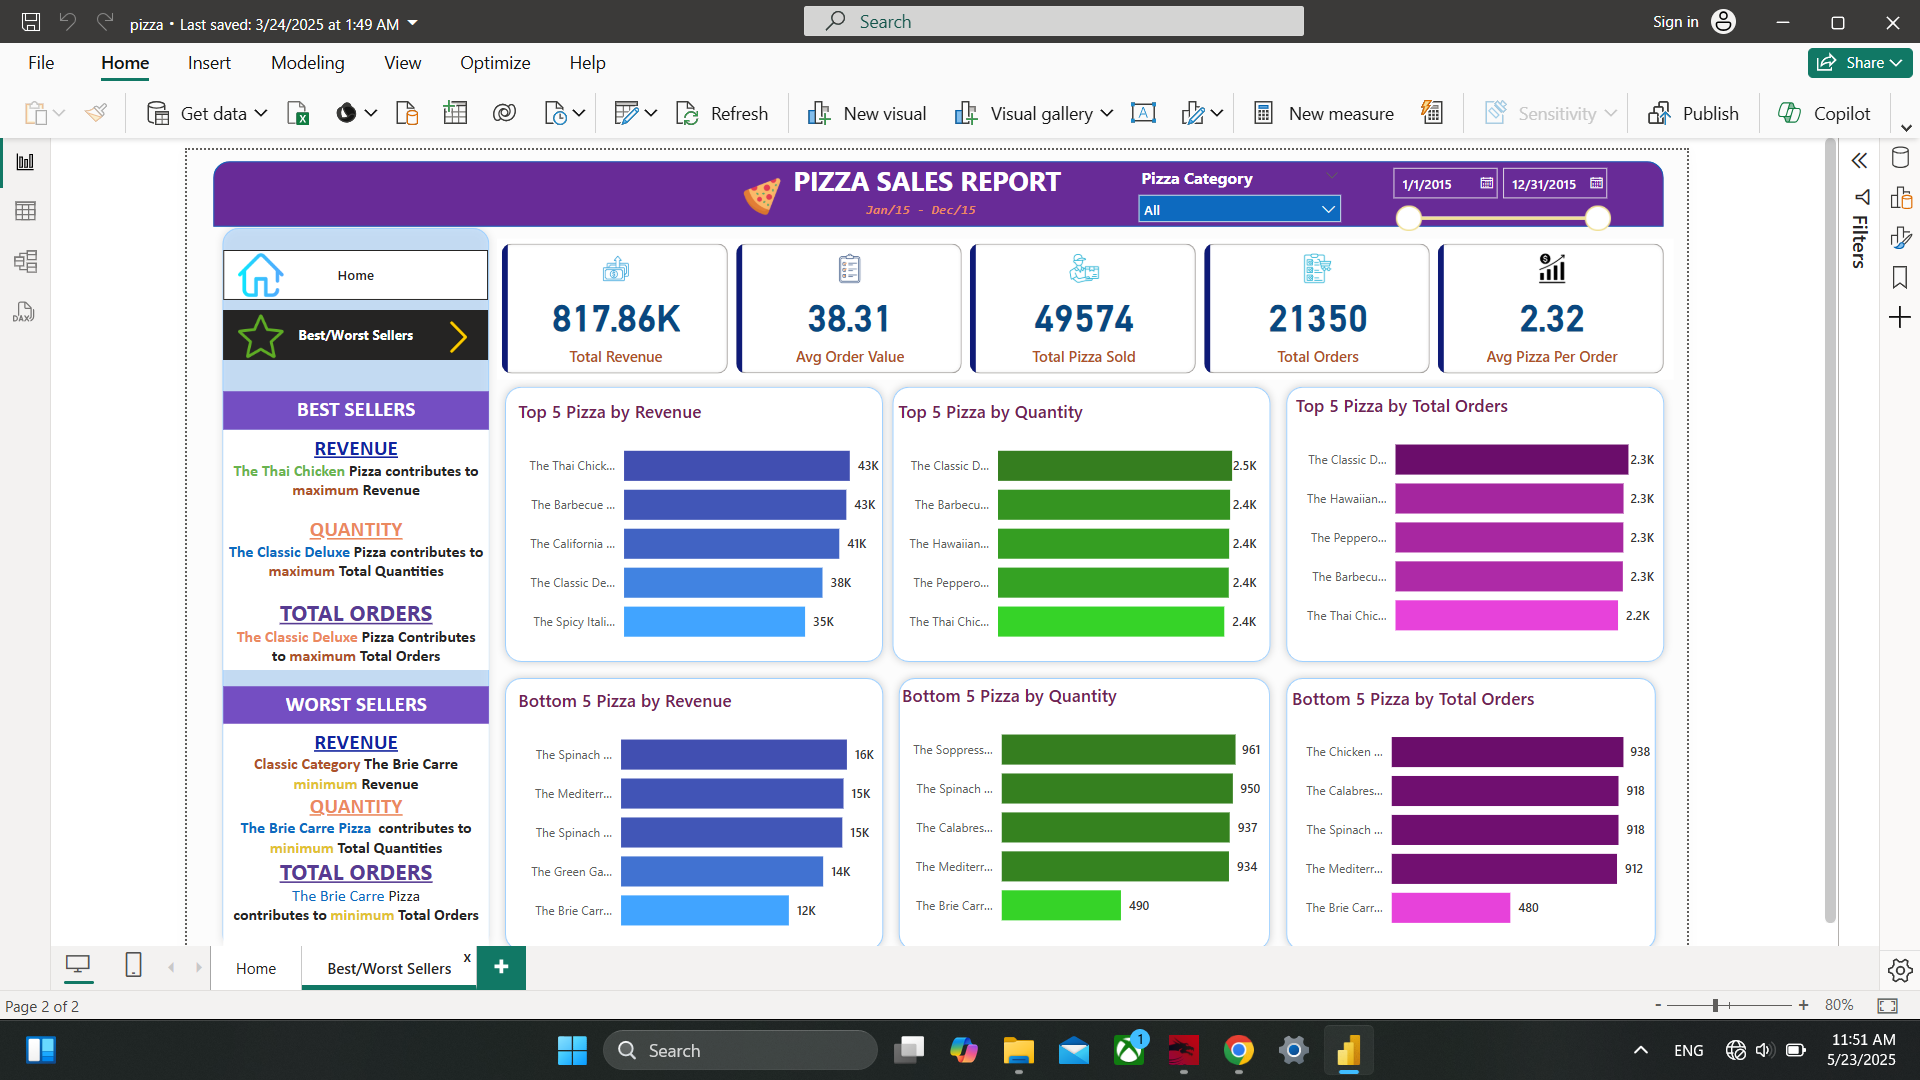

The page's visual inventory and layout, read from the dashboard file:
{"tool":"powerbi","page":{"name":"Best/Worst Sellers","canvas":[1500,820],"ordinal":1},"visuals":[{"type":"shape","box":[27.1,70,282.9,738.6],"z":0},{"type":"cardVisual","fields":{"Data":["pizza_sales.Total Revenue","pizza_sales.Avg Order Value","pizza_sales.Total Pizza Sold","pizza_sales.Total Orders","pizza_sales.Avg Pizza Per Order"]},"box":[309.4,89.1,1176.6,140.6],"z":1000},{"type":"shape","box":[26.6,10.9,1450,65.6],"z":2000},{"type":"textbox","box":[601.6,7,301.6,56.2],"z":3000},{"type":"textbox","box":[673.4,45.3,156.2,32.8],"z":4000},{"type":"image","box":[548.4,21.9,53.1,48.4],"z":5000},{"type":"shape","box":[310,520,394.3,288.6],"z":6000},{"type":"shape","box":[704.3,520,387.1,288.6],"z":7000},{"type":"shape","box":[1091.4,520,385.7,288.6],"z":8000},{"type":"textbox","box":[35.7,241,265.7,38.6],"z":9000},{"type":"textbox","box":[35.7,280,265.7,240],"z":10000},{"type":"textbox","box":[35.7,536,265.7,38.6],"z":11000},{"type":"textbox","box":[35.7,574.3,265.7,222.9],"z":12000},{"type":"slicer","fields":{"Values":["pizza_sales.pizza_category"]},"box":[941.4,11.4,222.9,65.7],"z":13000},{"type":"slicer","fields":{"Values":["pizza_sales.order_date"]},"box":[1194.3,7.1,238.6,81.4],"z":14000},{"type":"shape","box":[310,228.6,394.3,291.4],"z":15000},{"type":"shape","box":[697.1,228.6,394.3,291.4],"z":16000},{"type":"shape","box":[1091.4,228.6,394.3,291.4],"z":17000},{"type":"barChart","title":"Top 5 Pizza by Revenue","fields":{"Category":["pizza_sales.pizza_name"],"Y":["pizza_sales.Total Revenue"]},"box":[325.7,250,392.9,258.6],"z":18000},{"type":"barChart","title":"Bottom 5 Pizza by Revenue","fields":{"Category":["pizza_sales.pizza_name"],"Y":["pizza_sales.Total Revenue"]},"box":[325.7,538.6,378.6,258.6],"z":19000},{"type":"barChart","title":"Top 5 Pizza by Quantity","fields":{"Category":["pizza_sales.pizza_name"],"Y":["pizza_sales.Total Pizza Sold"]},"box":[705.7,250,368.6,258.6],"z":20000},{"type":"barChart","title":"Bottom 5 Pizza by Quantity","fields":{"Category":["pizza_sales.pizza_name"],"Y":["pizza_sales.Total Pizza Sold"]},"box":[710,534.3,368.6,258.6],"z":21000},{"type":"barChart","title":"Top 5 Pizza by Total Orders","fields":{"Category":["pizza_sales.pizza_name"],"Y":["pizza_sales.Total Orders"]},"box":[1104.3,244.3,368.6,258.6],"z":22000},{"type":"barChart","title":"Bottom 5 Pizza by Total Orders","fields":{"Category":["pizza_sales.pizza_name"],"Y":["pizza_sales.Total Orders"]},"box":[1100,535.7,368.6,258.6],"z":23000},{"type":"pageNavigator","box":[35.7,160,265.7,50],"z":23001},{"type":"pageNavigator","box":[35.7,100,265.7,50],"z":23002},{"type":"image","box":[241.4,165.7,60,41.4],"z":23003},{"type":"image","box":[45.7,155.7,55.7,60],"z":23004},{"type":"image","box":[45.7,97.1,55.7,55.7],"z":23005}]}

Visuals, with their boxes on the page's 1500x820 design canvas (x1, y1, x2, y2). These are canvas units, not pixel positions in the 1920x1080 screenshot, which may show the page scaled, cropped or inside an application window:
shape: [x1=27, y1=70, x2=310, y2=809]
cardVisual - pizza_sales.Total Revenue x pizza_sales.Avg Order Value: [x1=309, y1=89, x2=1486, y2=230]
shape: [x1=27, y1=11, x2=1477, y2=76]
textbox: [x1=602, y1=7, x2=903, y2=63]
textbox: [x1=673, y1=45, x2=830, y2=78]
image: [x1=548, y1=22, x2=602, y2=70]
shape: [x1=310, y1=520, x2=704, y2=809]
shape: [x1=704, y1=520, x2=1091, y2=809]
shape: [x1=1091, y1=520, x2=1477, y2=809]
textbox: [x1=36, y1=241, x2=301, y2=280]
textbox: [x1=36, y1=280, x2=301, y2=520]
textbox: [x1=36, y1=536, x2=301, y2=575]
textbox: [x1=36, y1=574, x2=301, y2=797]
slicer - pizza_sales.pizza_category: [x1=941, y1=11, x2=1164, y2=77]
slicer - pizza_sales.order_date: [x1=1194, y1=7, x2=1433, y2=88]
shape: [x1=310, y1=229, x2=704, y2=520]
shape: [x1=697, y1=229, x2=1091, y2=520]
shape: [x1=1091, y1=229, x2=1486, y2=520]
"Top 5 Pizza by Revenue" barChart: [x1=326, y1=250, x2=719, y2=509]
"Bottom 5 Pizza by Revenue" barChart: [x1=326, y1=539, x2=704, y2=797]
"Top 5 Pizza by Quantity" barChart: [x1=706, y1=250, x2=1074, y2=509]
"Bottom 5 Pizza by Quantity" barChart: [x1=710, y1=534, x2=1079, y2=793]
"Top 5 Pizza by Total Orders" barChart: [x1=1104, y1=244, x2=1473, y2=503]
"Bottom 5 Pizza by Total Orders" barChart: [x1=1100, y1=536, x2=1469, y2=794]
pageNavigator: [x1=36, y1=160, x2=301, y2=210]
pageNavigator: [x1=36, y1=100, x2=301, y2=150]
image: [x1=241, y1=166, x2=301, y2=207]
image: [x1=46, y1=156, x2=101, y2=216]
image: [x1=46, y1=97, x2=101, y2=153]
